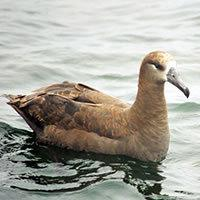001.Black_footed_Albatross: (1, 50, 190, 165)
